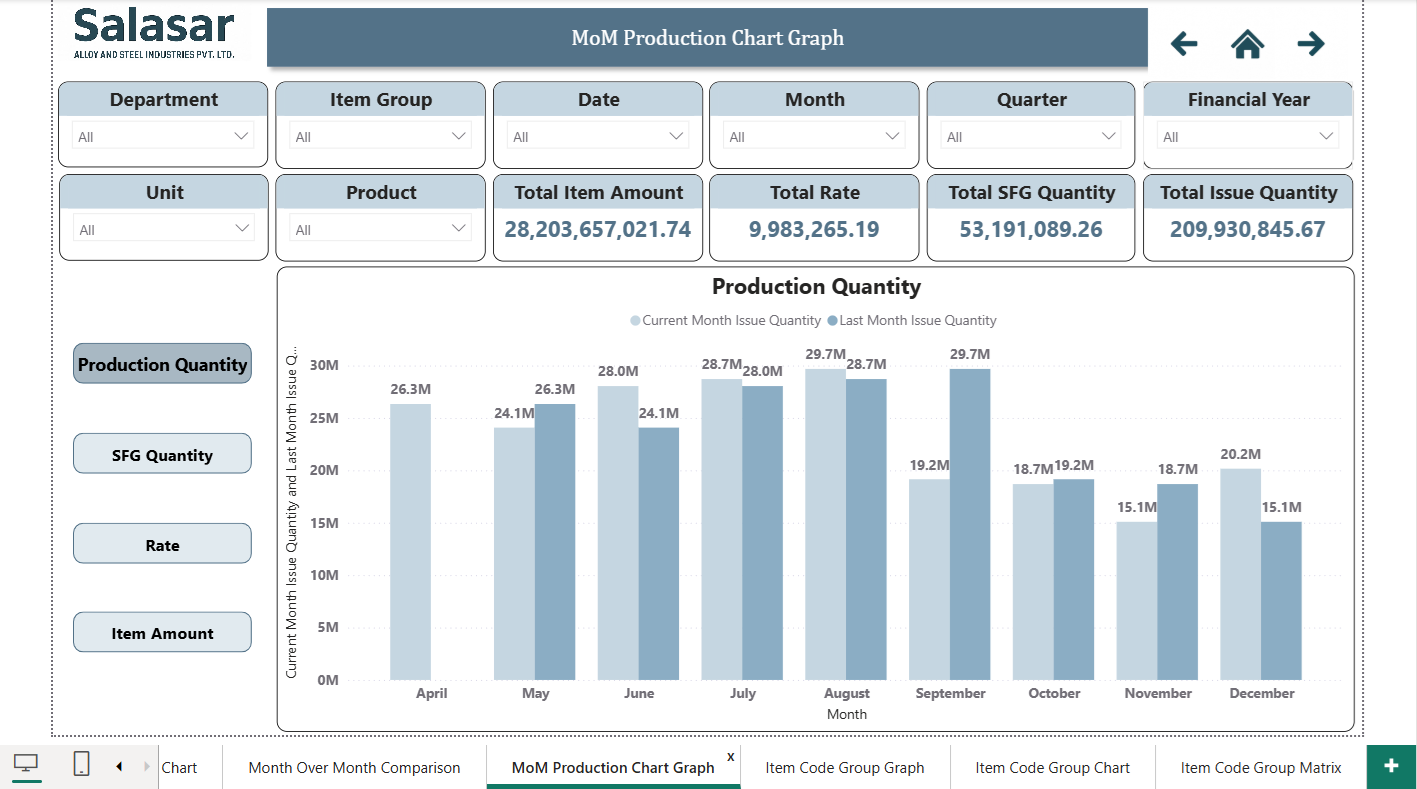

What the dashboard file says about the page in this screenshot:
{"tool":"powerbi","page":{"name":"MoM Production Chart Graph","canvas":[1280,720],"ordinal":11},"visuals":[{"type":"image","box":[1128.7,3.8,80,80],"z":0,"group":"g1"},{"type":"clusteredColumnChart","title":"Production Quantity","fields":{"Category":["Calendar.Month"],"Y":["Sheet 1.Current Month Issue Quantity","Sheet 1.Last Month Issue Quantity"]},"box":[218.9,261.7,1054.1,455],"z":0},{"type":"image","box":[1066.2,3.8,80,80],"z":1000,"group":"g1"},{"type":"image","box":[1191.2,3.8,80,80],"z":2000,"group":"g1"},{"type":"slicer","title":"Department","fields":{"Values":["Sheet 1.Department Name"]},"box":[4.9,81,205.4,84.4],"z":4000},{"type":"slicer","title":"Item Group","fields":{"Values":["Sheet 1.Item Group Name"]},"box":[217.4,81,205.4,85.6],"z":5000},{"type":"actionButton","box":[20,424.1,175,40],"z":5000,"group":"g3"},{"type":"slicer","title":"Date","fields":{"Values":["Sheet 1.Doc Date"]},"box":[429.9,81,205.4,85.6],"z":6000},{"type":"actionButton","box":[20,511.6,175,40],"z":6000,"group":"g4"},{"type":"slicer","title":"Month","fields":{"Values":["Calendar.Month"]},"box":[642.5,81,205.4,85.6],"z":7000},{"type":"actionButton","box":[20,599.2,175,40],"z":7000,"group":"g5"},{"type":"actionButton","title":"PQ Highlight","box":[20,336,175,40],"z":7016,"group":"g2"},{"type":"slicer","title":"Quarter","fields":{"Values":["Calendar.Qtr"]},"box":[855,81,204.2,85.6],"z":8000},{"type":"slicer","title":"Financial Year","fields":{"Values":["Calendar.Fiscal Year"]},"box":[1066.3,81,205.4,85.6],"z":9000},{"type":"slicer","title":"Unit","fields":{"Values":["Sheet 1.unit"]},"box":[6.1,171,205,85],"z":10000},{"type":"card","title":"Total Item Amount ","fields":{"Values":["Sum(Sheet 1.ItemAmount)"]},"box":[430.4,171,205.4,85.6],"z":11000},{"type":"card","title":"Total Rate","fields":{"Values":["Sum(Sheet 1.Rate)"]},"box":[642,171,205.4,85.6],"z":12000},{"type":"card","title":"Total SFG Quantity","fields":{"Values":["Sum(Sheet 1.SFG Quantity)"]},"box":[854.8,171,204.2,85.6],"z":13000},{"type":"card","title":"Total Issue Quantity","fields":{"Values":["Sum(Sheet 1.Issue Quantity)"]},"box":[1066.3,171,205.4,85.6],"z":14000},{"type":"slicer","title":"Product","fields":{"Values":["Sheet 1.Product Name"]},"box":[217.7,171,205.4,85.6],"z":15000},{"type":"shape","box":[200,0,880,75],"z":16000},{"type":"image","box":[0,0,199.3,66],"z":17000},{"type":"group","id":"g1","title":"Group 1","box":[1066.2,3.8,205,80],"z":18000},{"type":"group","id":"g2","title":"Group 2","box":[20,336,175.8,40.3],"z":19000},{"type":"group","id":"g3","title":"Group 3","box":[20,424,175,40.1],"z":20000},{"type":"group","id":"g4","title":"Group 4","box":[20,511,175,40.6],"z":21000},{"type":"group","id":"g5","title":"Group 5","box":[20,599,175,40.2],"z":22000}]}

Visuals, with their boxes on the page's 1280x720 design canvas (x1, y1, x2, y2). These are canvas units, not pixel positions in the 1417x789 screenshot, which may show the page scaled, cropped or inside an application window:
image: (x1=1129, y1=4, x2=1209, y2=84)
"Production Quantity" clusteredColumnChart: (x1=219, y1=262, x2=1273, y2=717)
image: (x1=1066, y1=4, x2=1146, y2=84)
image: (x1=1191, y1=4, x2=1271, y2=84)
"Department" slicer: (x1=5, y1=81, x2=210, y2=165)
"Item Group" slicer: (x1=217, y1=81, x2=423, y2=167)
actionButton: (x1=20, y1=424, x2=195, y2=464)
"Date" slicer: (x1=430, y1=81, x2=635, y2=167)
actionButton: (x1=20, y1=512, x2=195, y2=552)
"Month" slicer: (x1=642, y1=81, x2=848, y2=167)
actionButton: (x1=20, y1=599, x2=195, y2=639)
"PQ Highlight" actionButton: (x1=20, y1=336, x2=195, y2=376)
"Quarter" slicer: (x1=855, y1=81, x2=1059, y2=167)
"Financial Year" slicer: (x1=1066, y1=81, x2=1272, y2=167)
"Unit" slicer: (x1=6, y1=171, x2=211, y2=256)
"Total Item Amount " card: (x1=430, y1=171, x2=636, y2=257)
"Total Rate" card: (x1=642, y1=171, x2=847, y2=257)
"Total SFG Quantity" card: (x1=855, y1=171, x2=1059, y2=257)
"Total Issue Quantity" card: (x1=1066, y1=171, x2=1272, y2=257)
"Product" slicer: (x1=218, y1=171, x2=423, y2=257)
shape: (x1=200, y1=0, x2=1080, y2=75)
image: (x1=0, y1=0, x2=199, y2=66)
"Group 1" group: (x1=1066, y1=4, x2=1271, y2=84)
"Group 2" group: (x1=20, y1=336, x2=196, y2=376)
"Group 3" group: (x1=20, y1=424, x2=195, y2=464)
"Group 4" group: (x1=20, y1=511, x2=195, y2=552)
"Group 5" group: (x1=20, y1=599, x2=195, y2=639)
